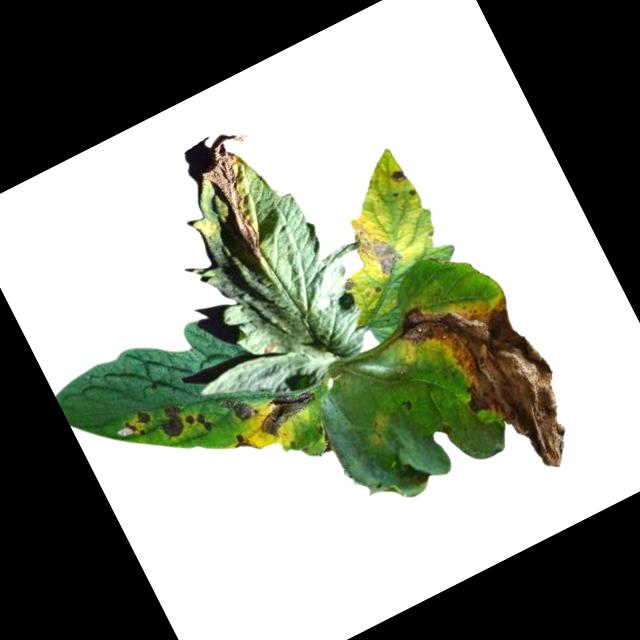Early_blight: (391, 265, 593, 505), (188, 125, 301, 271), (248, 377, 325, 444), (350, 220, 409, 284), (152, 402, 190, 444), (220, 389, 258, 430), (122, 407, 158, 444), (225, 426, 258, 462), (184, 406, 216, 440), (387, 167, 409, 188)
